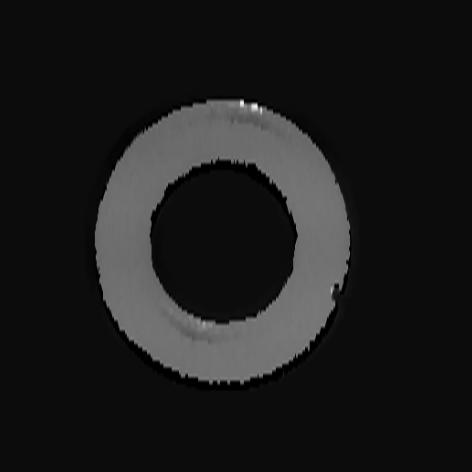defect: (330, 279, 341, 307)
